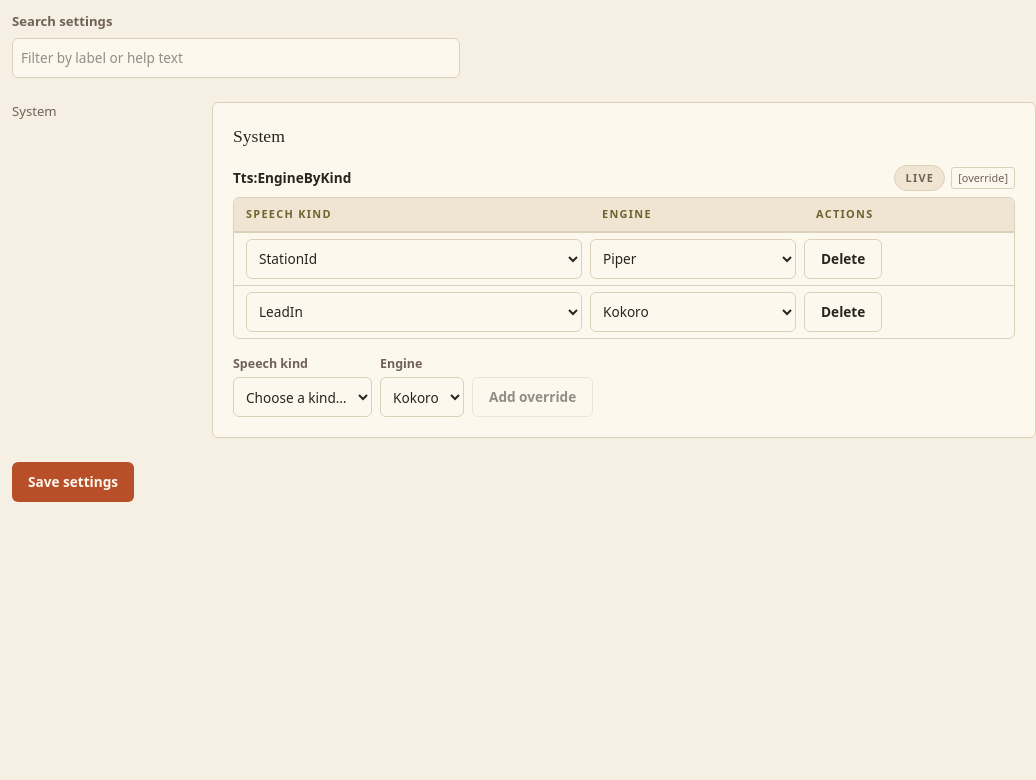
Test: Feature: Tts:EngineByKind structured editor round-trips the stored value › Scenario: the saved map renders as rows › an untouched control stages nothing — Save reports no changes and sends no PUT
Click the button "Save settings".
click(73, 482)  # box left=12, top=462, right=134, bottom=502
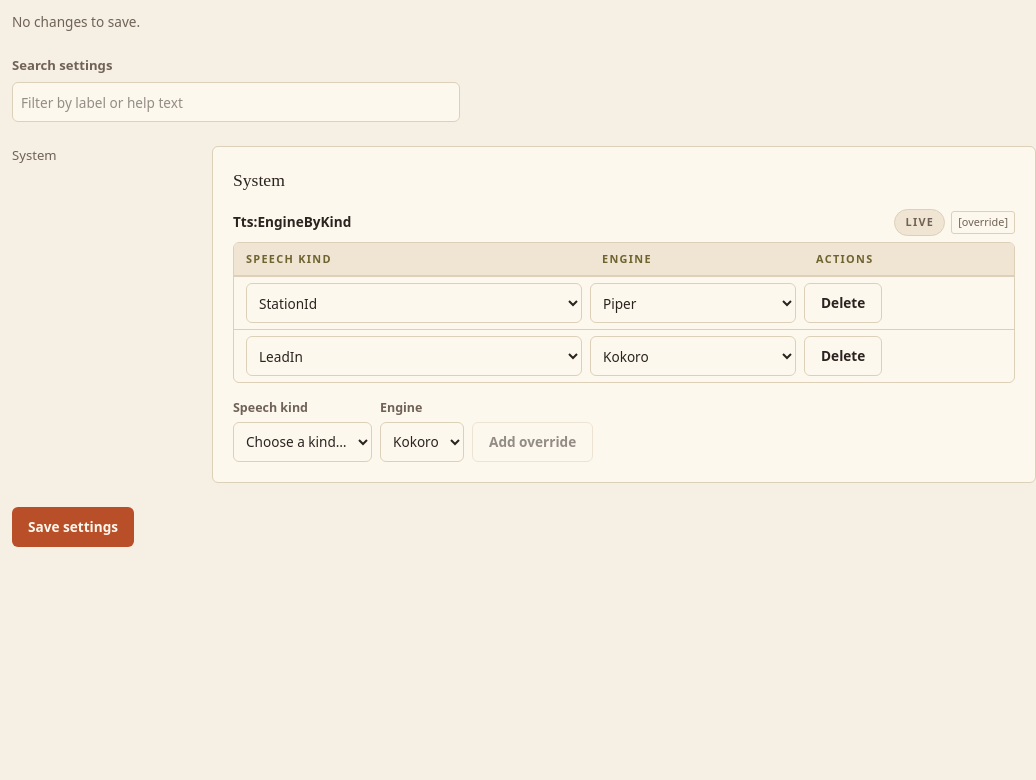
Result: the text "No changes to save." is shown at left=12, top=12, right=140, bottom=31
